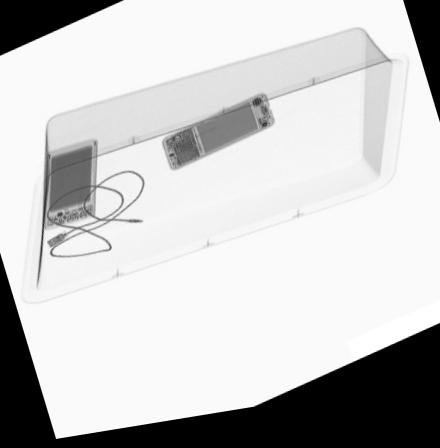Powerbank: (43, 141, 97, 231)
